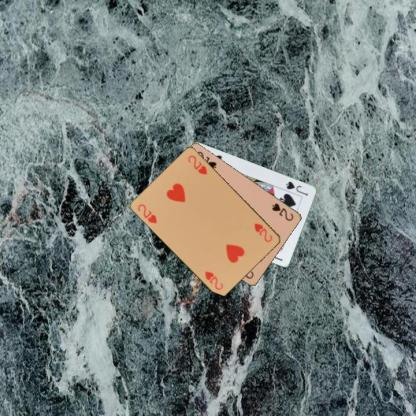2h: (136, 201, 158, 225), (252, 221, 274, 243)
2s: (269, 200, 295, 223)
Js: (284, 179, 309, 197)
